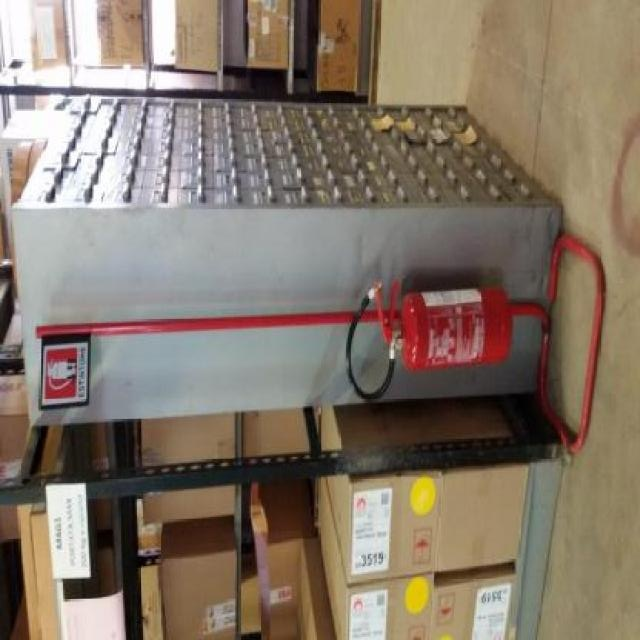fire extinguisher: (345, 278, 511, 400)
